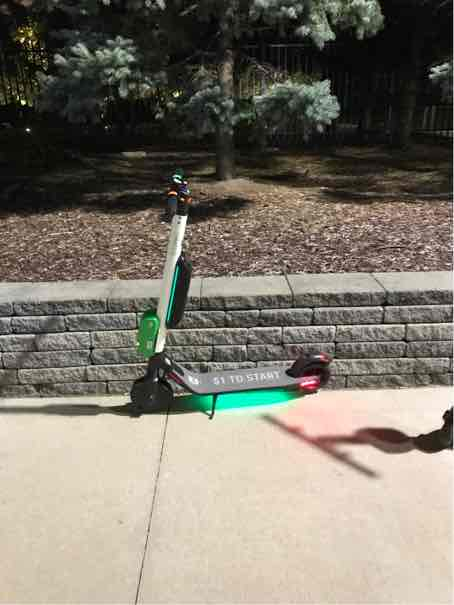scooter: (117, 162, 334, 427)
